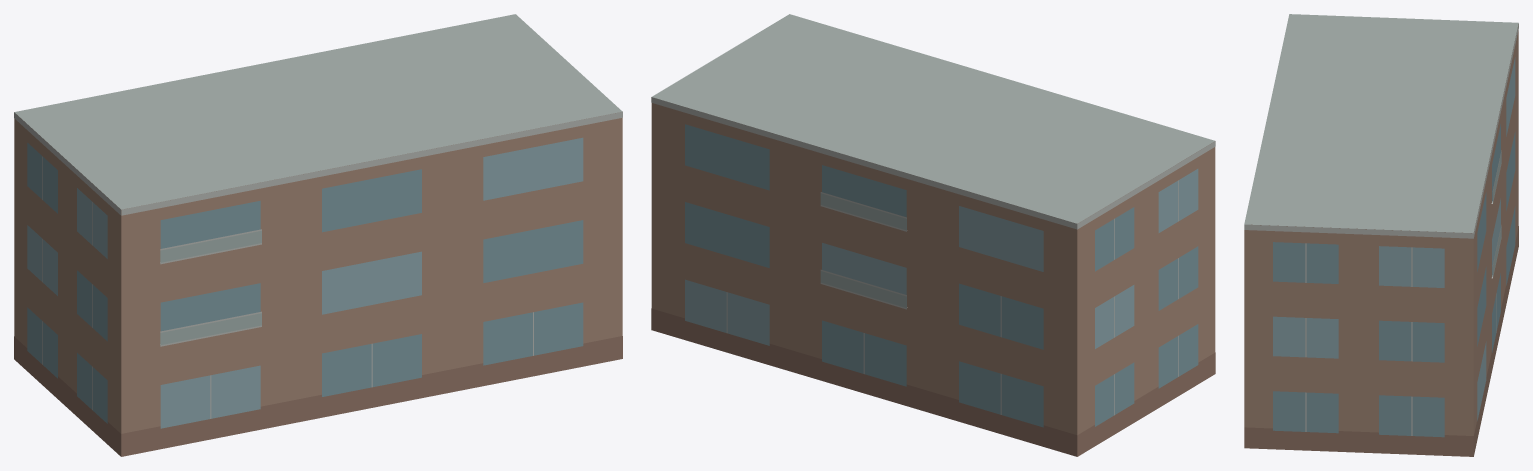
Rendered from survey-upis-32643662.glb.
3 renders of one model, left to right at view 1: azimuth 30°, elevation 25°; view 2: azimuth 150°, elevation 25°; view 3: azimuth 270°, elevation 25°, orthographic. The views are drawn at different scales.
Parts seen in each view (by area): view 1: survey-upis-32643662.tmp; view 2: survey-upis-32643662.tmp; view 3: survey-upis-32643662.tmp.
Boxes of the visible parts, x1=… form: survey-upis-32643662.tmp: x1=14, y1=14, x2=622, y2=456; survey-upis-32643662.tmp: x1=651, y1=14, x2=1215, y2=456; survey-upis-32643662.tmp: x1=1244, y1=14, x2=1518, y2=456.
Bounding box in the file's own units: 20.81 × 9.9 × 11.02.
